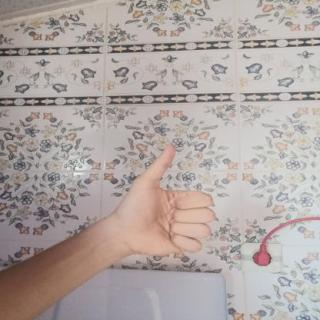ALIF: (104, 135, 225, 263)
